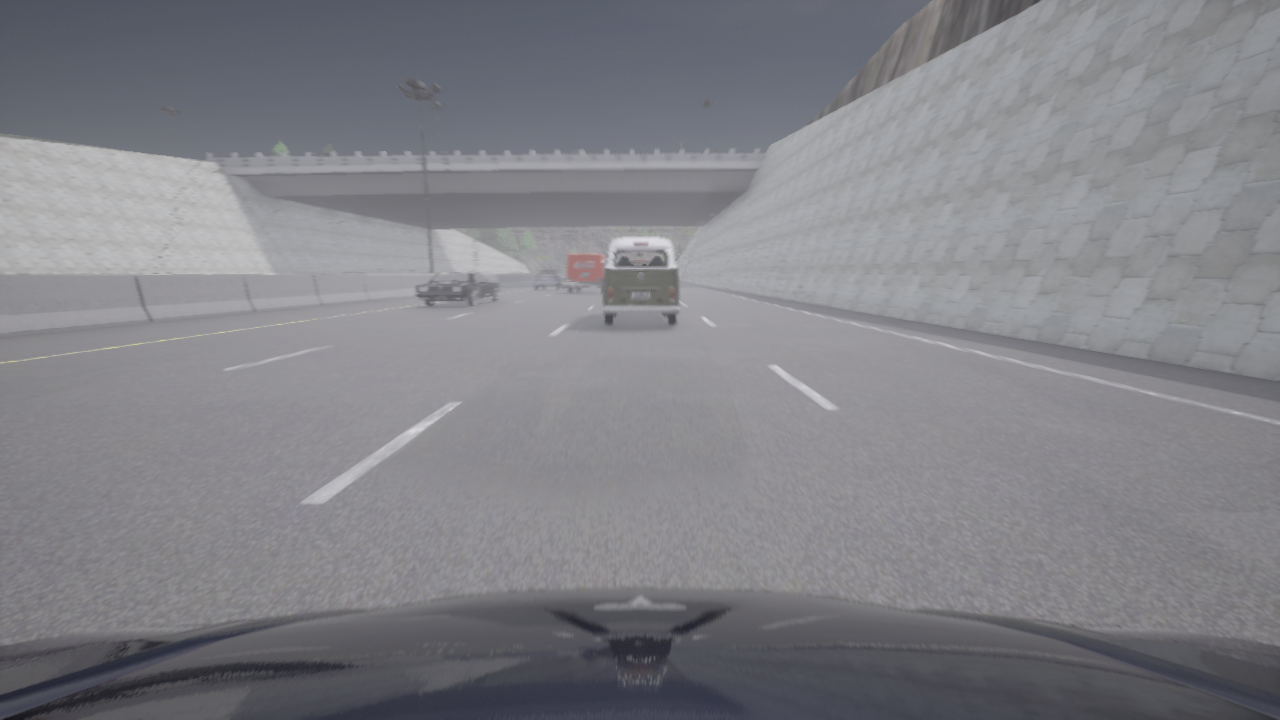cyclist: (0, 588, 1279, 719), (602, 237, 679, 324), (415, 271, 500, 306), (565, 253, 604, 292), (533, 268, 565, 290)
